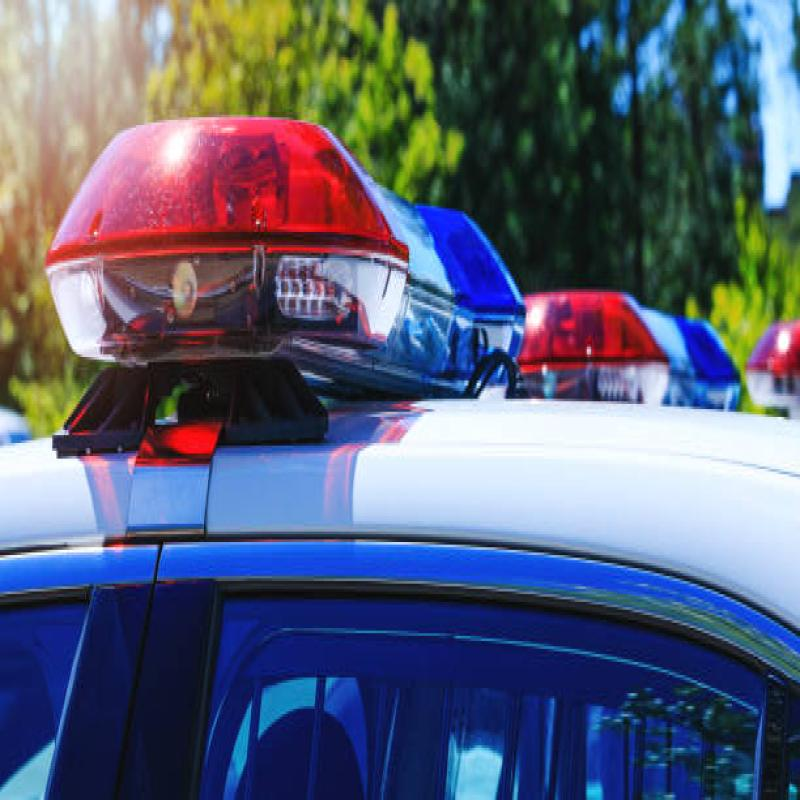AmbulanceSiren: (38, 64, 527, 364), (534, 253, 753, 426)
